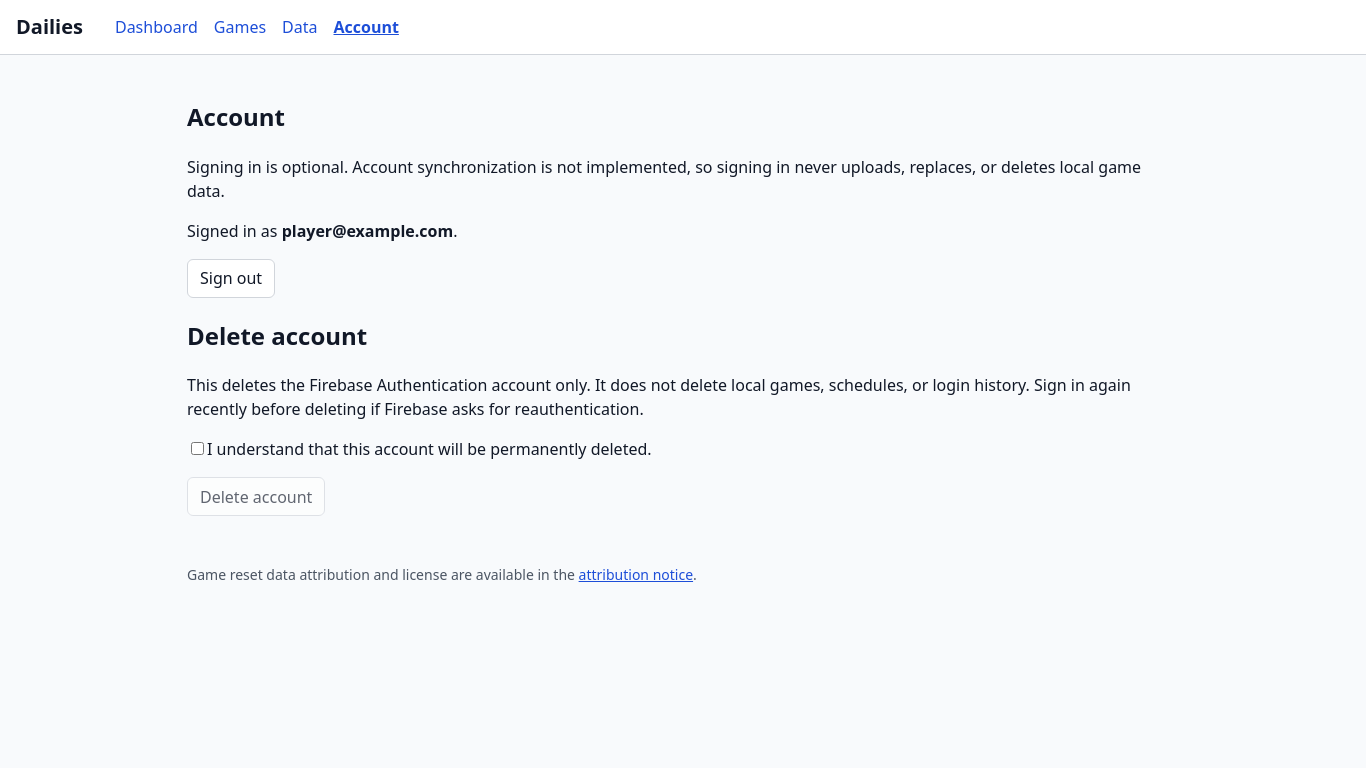
Scenario: account page › signs out without deleting local data
Check: the text "player@example.com" is shown, box [282,220,453,242]
Click the button "Sign out". click: (231, 278)
box: [187,259,275,298]
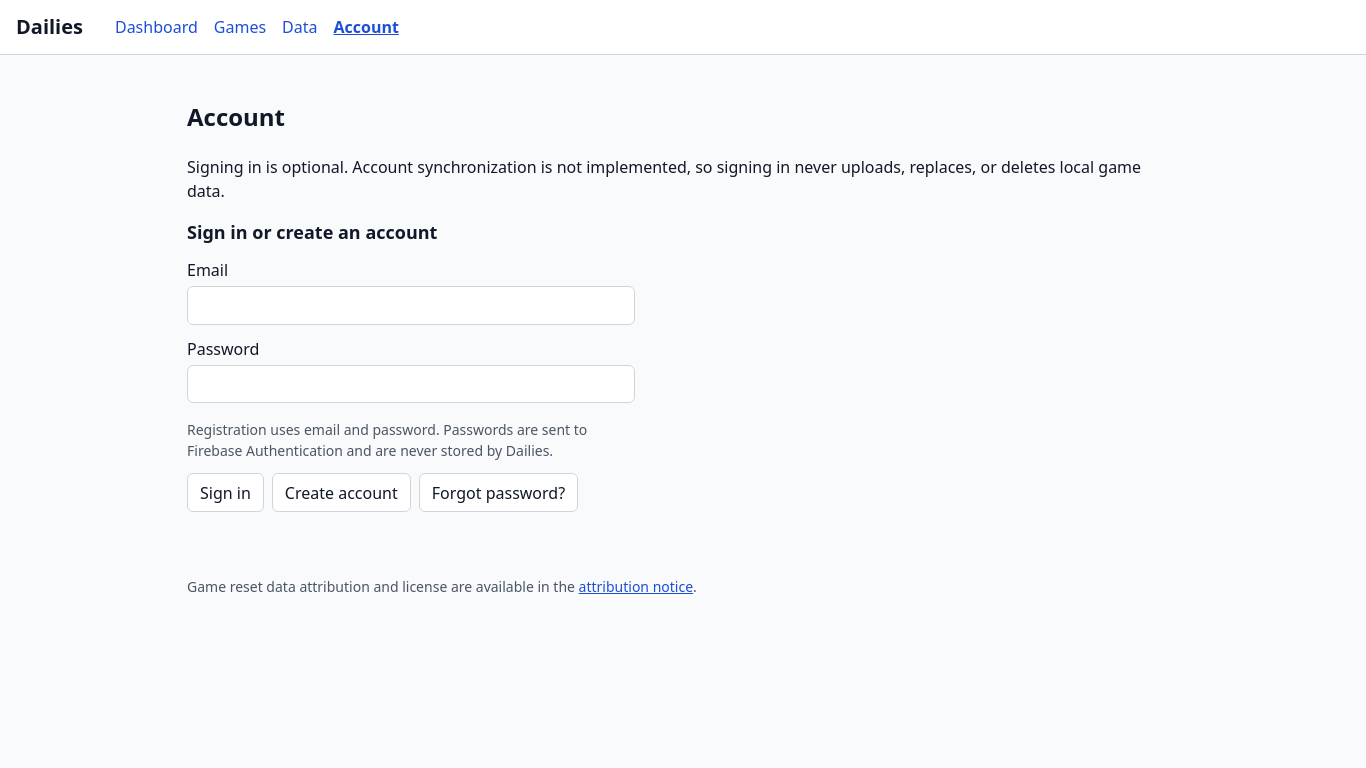
Check: the heading "Sign in or create an account" is shown, box [187,220,437,244]
